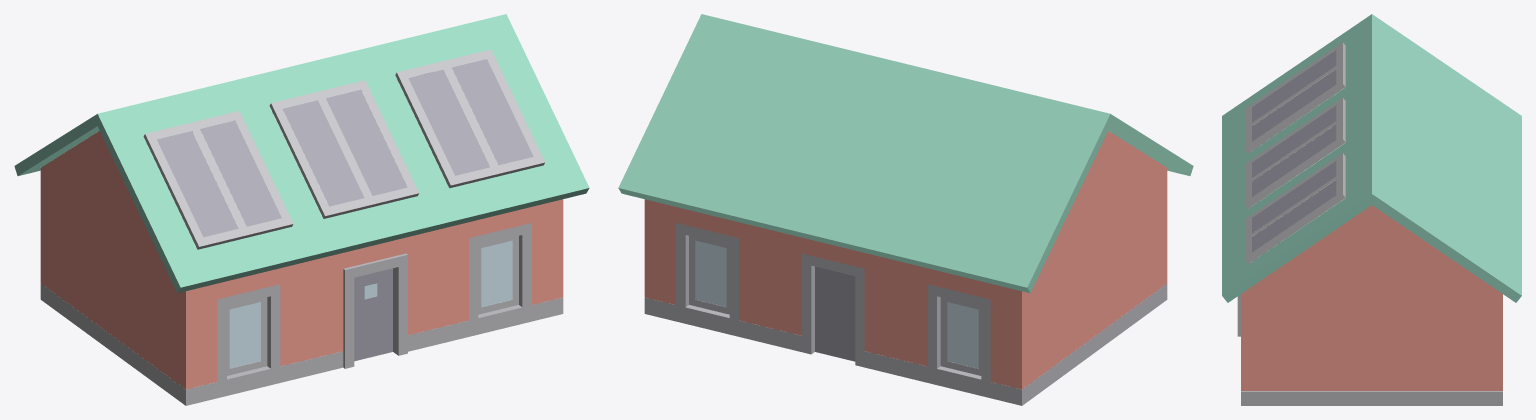
File: house1.glb
3 views of the same model, side by side, from view 1: azimuth 30°, elevation 25°; view 2: azimuth 150°, elevation 25°; view 3: azimuth 270°, elevation 25° (orthographic). The views are drawn at different scales.
Parts seen in each view (by area): view 1: house_type01; view 2: house_type01; view 3: house_type01.
Boxes of the visible parts, x1,y1,x2,y2 form: house_type01: (14,14,589,405); house_type01: (618,14,1193,405); house_type01: (1222,14,1521,405).
Size of the model in its own units: 1.95 by 1.11 by 1.37.
1 material, 1 textured.
